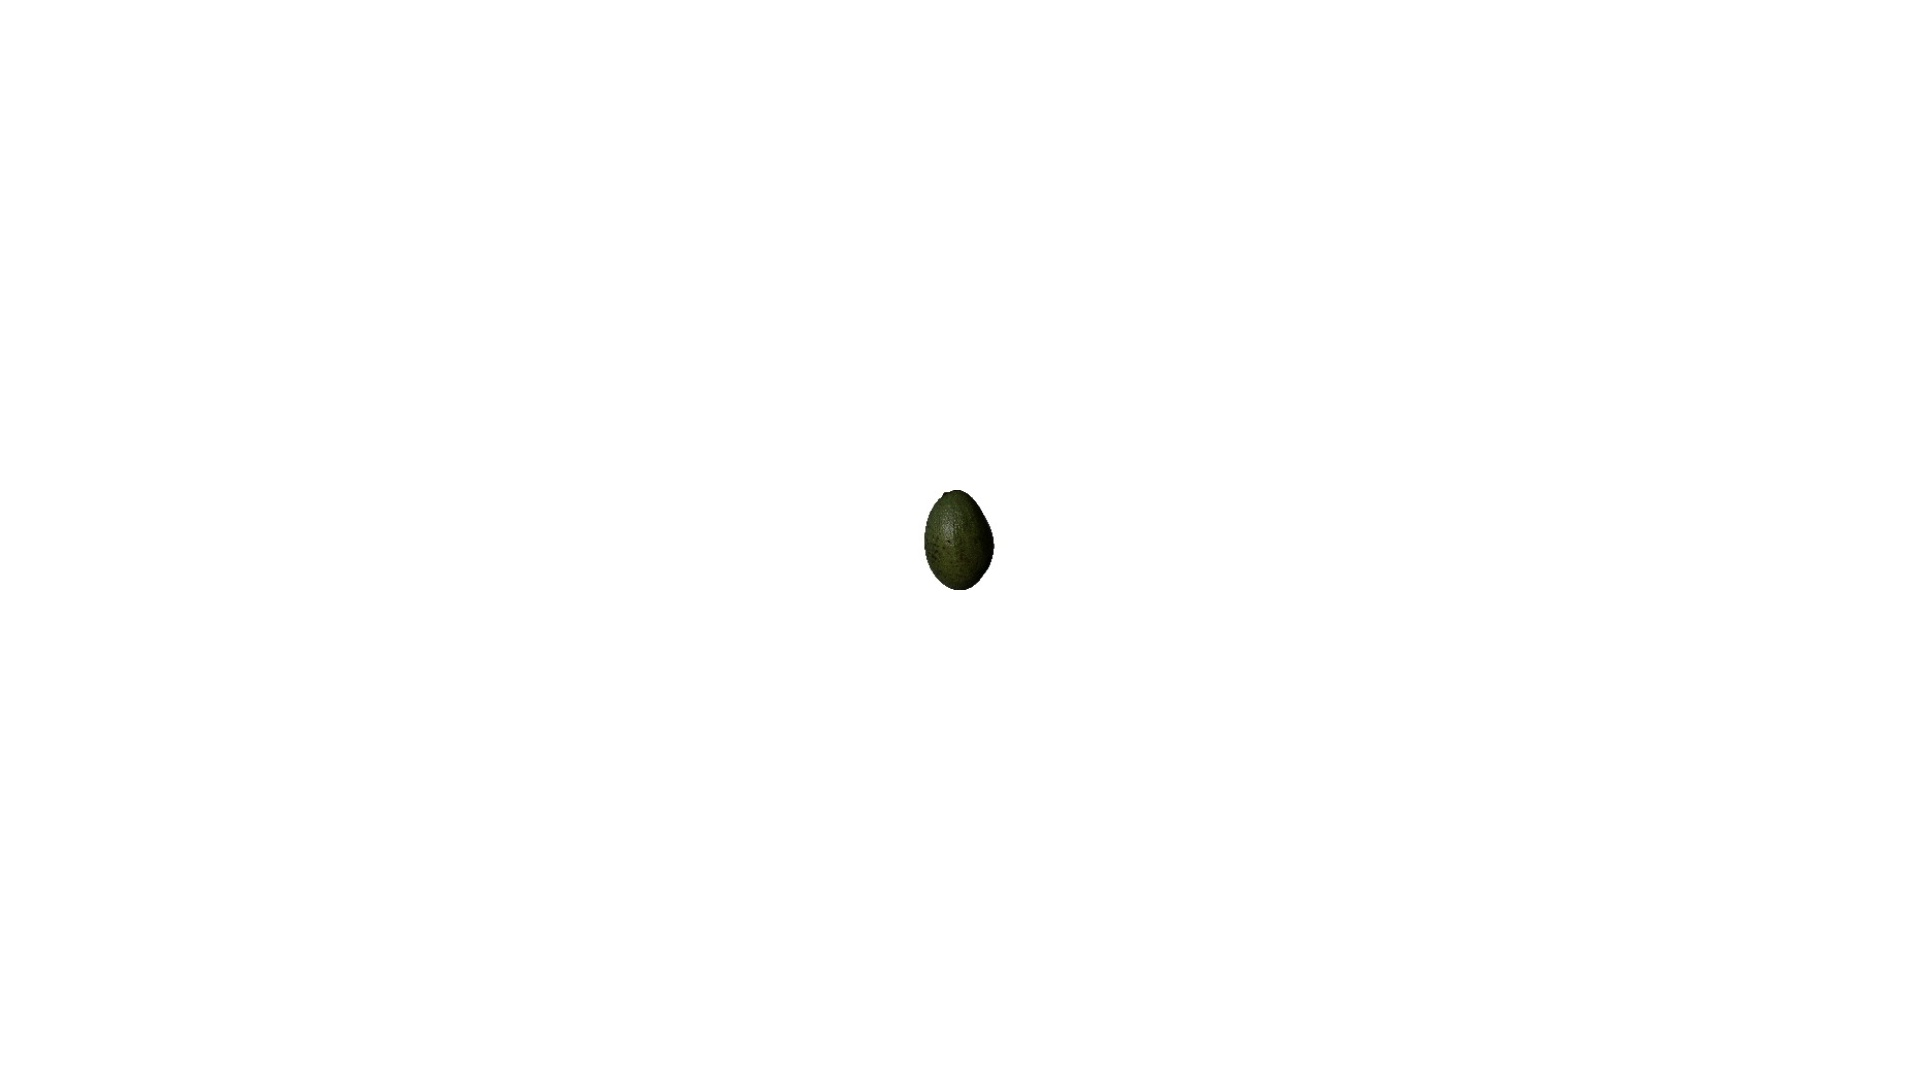abacate: (922, 488, 1000, 593)
